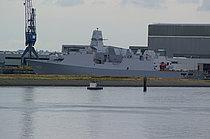MIL_Ship: (23, 28, 205, 78)
